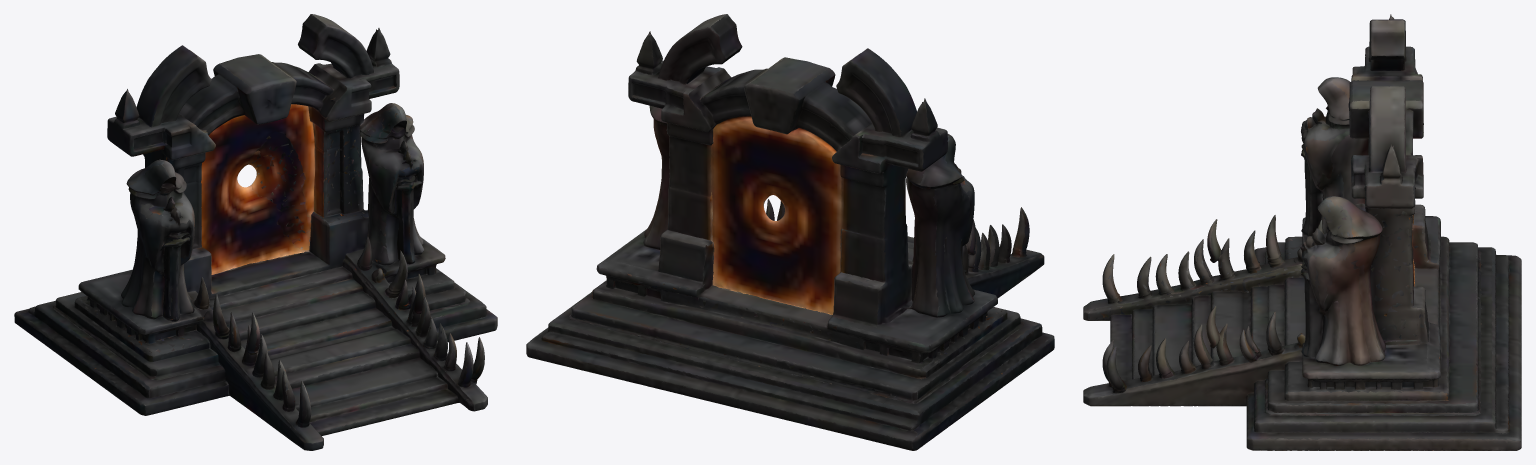
Rendered from portal.glb.
3 views of the same model, side by side, from view 1: azimuth 30°, elevation 25°; view 2: azimuth 150°, elevation 25°; view 3: azimuth 270°, elevation 25° (orthographic). The views are drawn at different scales.
Visible parts, largest first — view 1: input; view 2: input; view 3: input.
Part boxes in pixels (x1,y1,x2,y2): input: (14,14,497,450); input: (526,14,1054,450); input: (1083,14,1521,450).
Size of the model in its own units: 0.9962 by 0.771 by 0.9999.
Materials: 1 (1 with a texture image).
